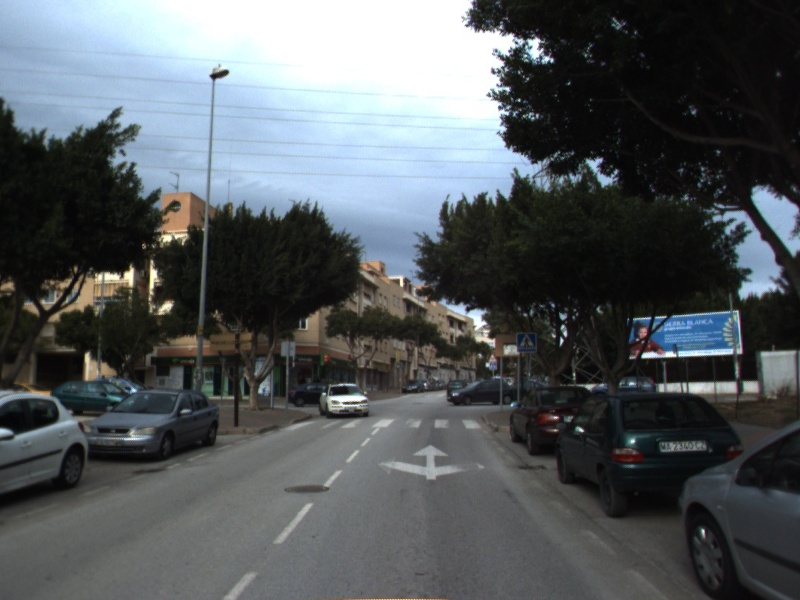STRAIGHT_LEFT_RIGHT: (376, 442, 488, 482)
